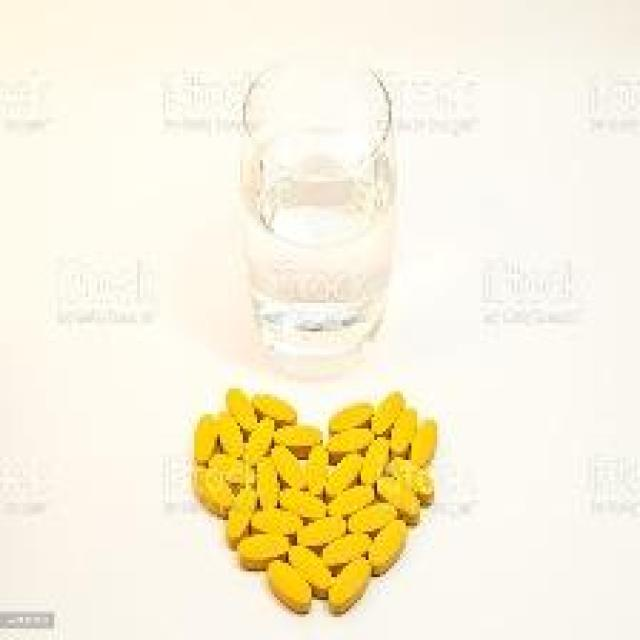Medicine: (158, 356, 451, 622)
